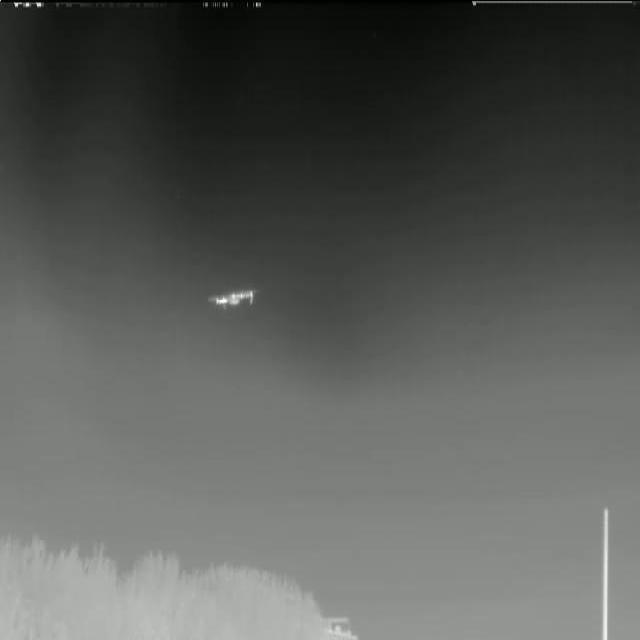DRONE: (203, 282, 263, 322)
